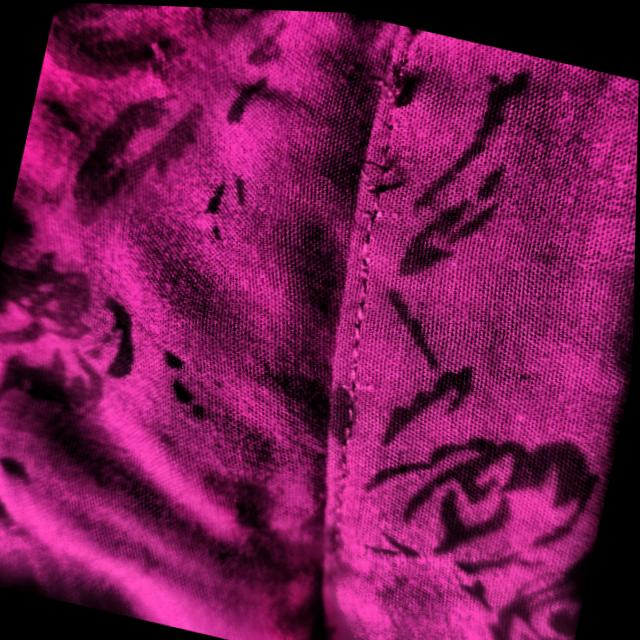Stitch: (318, 131, 436, 228), (346, 54, 443, 125)
